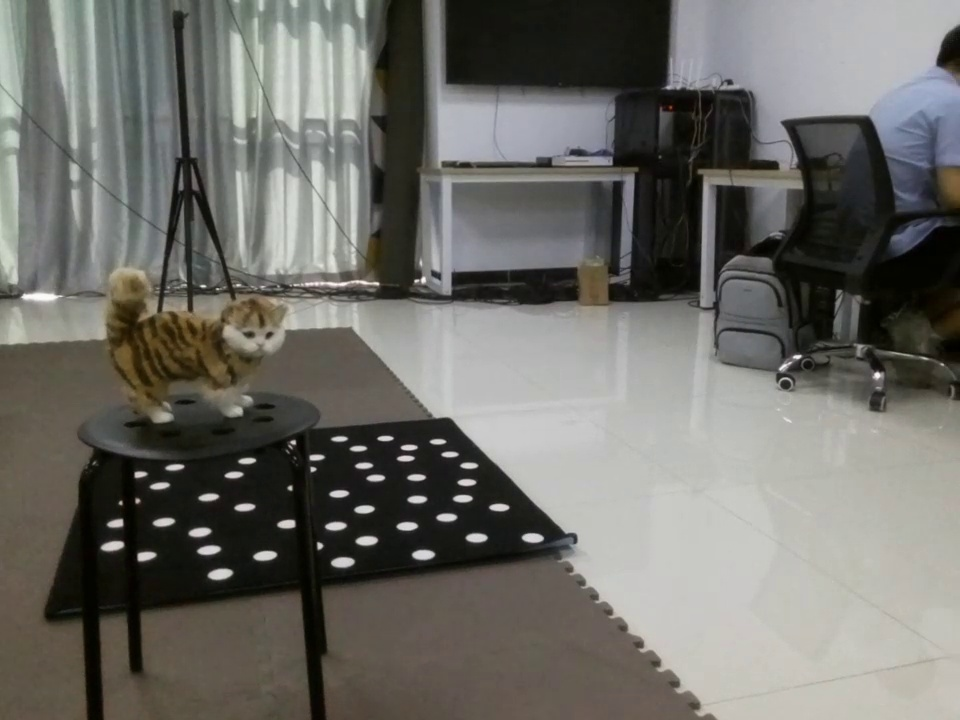cat: (81, 261, 300, 429)
